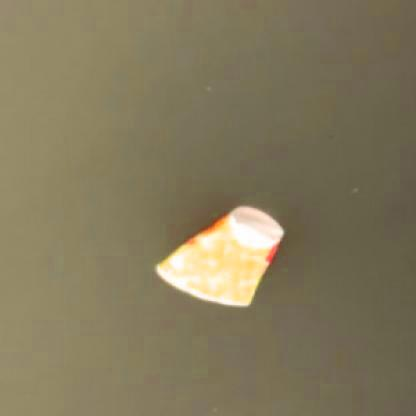Plastic: (153, 201, 289, 314)
